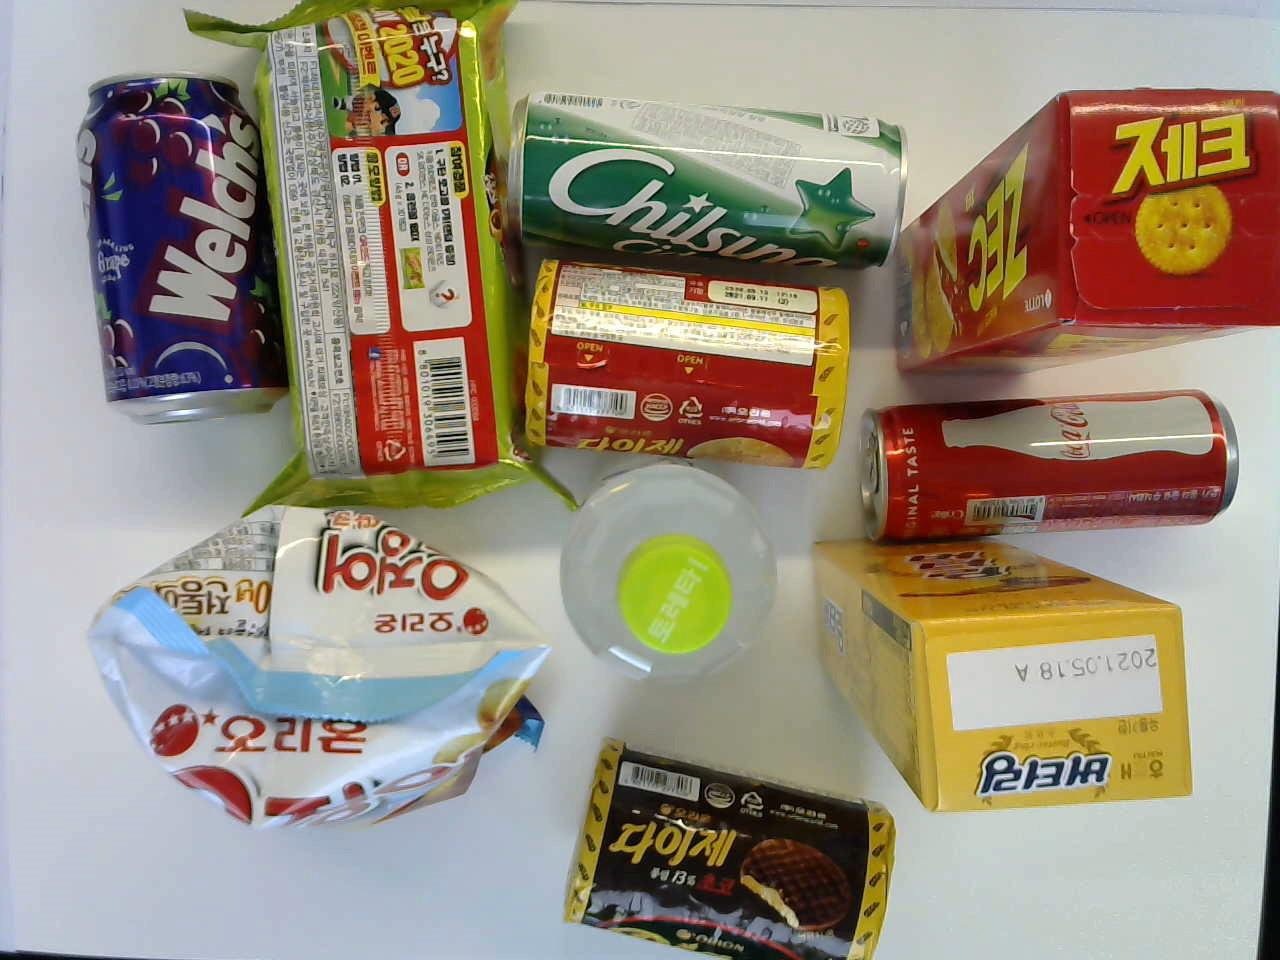buttering: (810, 542, 1191, 816)
cidar: (507, 91, 918, 260)
coke: (865, 396, 1236, 527)
diget_choco: (560, 735, 900, 959)
diget_ori: (521, 265, 847, 467)
homerunball: (220, 0, 501, 499)
squid_peanut: (71, 510, 549, 825)
toreta: (556, 464, 766, 673)
welchs: (68, 72, 273, 423)
zec: (891, 89, 1280, 371)
